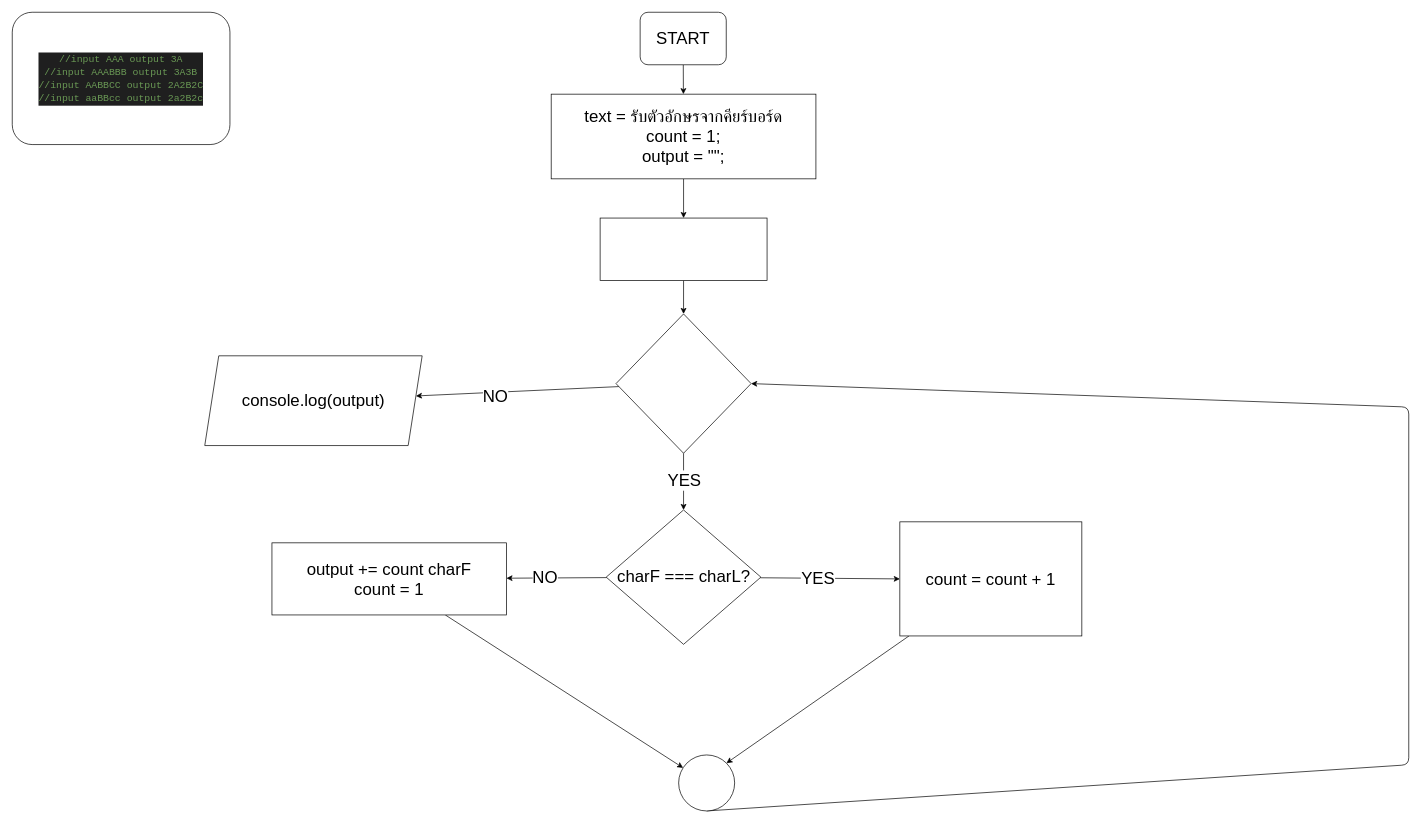
Some shapes in this 1427 by 829 pixel diagram are drawn without their labels. The shapes that lost their labels are listed below. From the top down, each one's centre as x and y in pixels, then its label:
At pixel 683 249: "let i = 0; charF = text[ i ] charL = text [ i + 1 ]".
At pixel 683 383: "i < text.length?".
At pixel 706 782: "i++".
